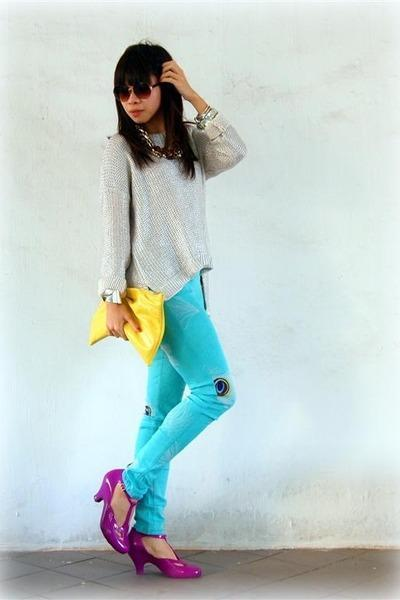bag: (90, 287, 164, 365)
jacket: (90, 121, 251, 305)
pants: (122, 280, 229, 535)
shoe: (94, 469, 198, 581)
sunglass: (114, 69, 172, 107)
